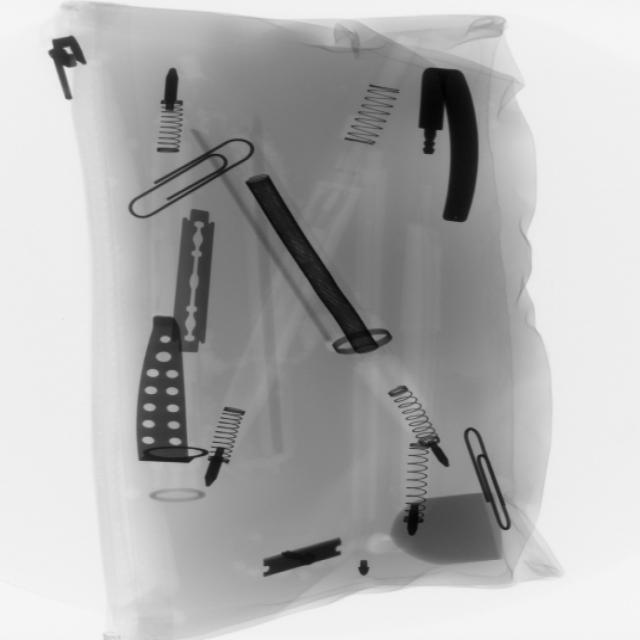BLADE: (163, 202, 225, 366)
